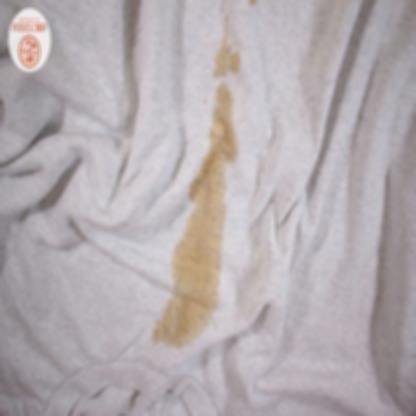coffee: (180, 228, 220, 282), (168, 287, 206, 341), (193, 174, 224, 224), (214, 87, 234, 164)
